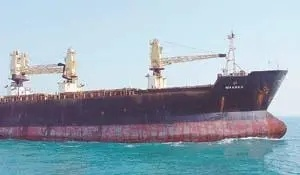Cargoship: (1, 29, 288, 141)
